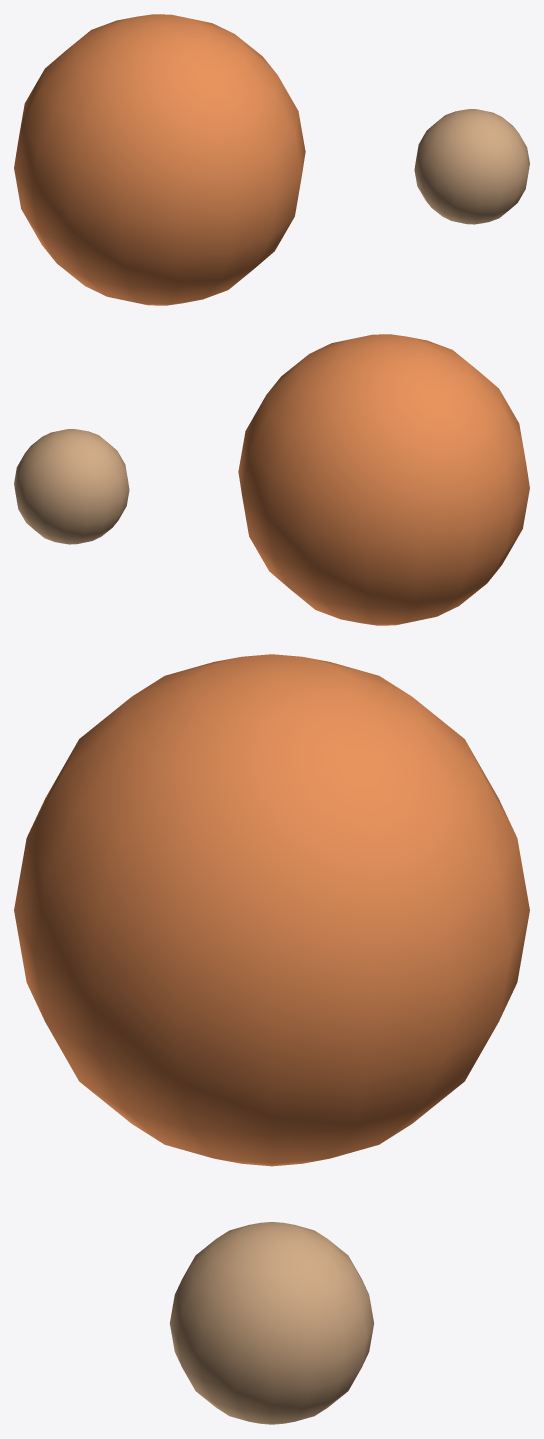
File: ava-opposite-big.glb
3 renders of one model, top to bottom at view 1: azimuth 30°, elevation 25°; view 2: azimuth 150°, elevation 25°; view 3: azimuth 270°, elevation 25°, orthographic. The views are drawn at different scales.
Visible parts, largest first — view 1: big ball, small ball; view 2: big ball, small ball; view 3: big ball, small ball.
Boxes of the visible parts, x1,y1,x2,y2 form: big ball: [14, 14, 305, 305]; small ball: [414, 109, 529, 224]; big ball: [238, 334, 529, 625]; small ball: [14, 429, 129, 544]; big ball: [14, 654, 529, 1166]; small ball: [169, 1222, 374, 1424].
Bounding box in the file's own units: 2.04 × 1.07 × 1.06.
